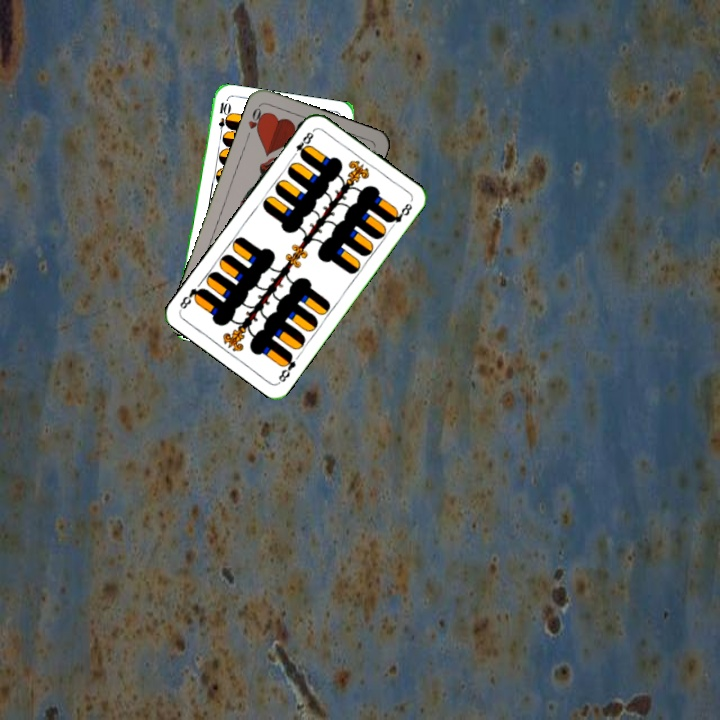E10: (214, 98, 231, 139)
E8: (288, 126, 317, 161), (274, 349, 299, 385)
HO: (242, 103, 268, 142)
